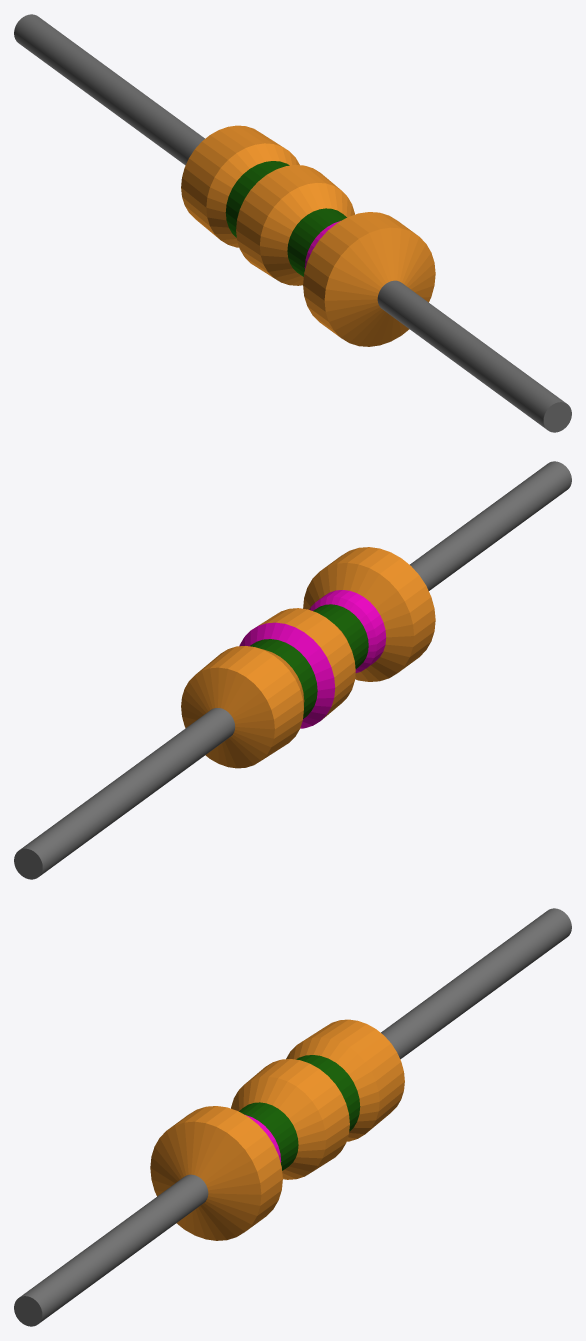
Rendered from resistor.glb.
The picture shows the model from 3 angles, top to bottom: view 1: azimuth 30°, elevation 25°; view 2: azimuth 150°, elevation 25°; view 3: azimuth 330°, elevation 25°; orthographic projection.
Visible parts, largest first — view 1: Cylinder_0; view 2: Cylinder_0; view 3: Cylinder_0.
Part boxes in pixels (left/top/right/bottom): Cylinder_0: left=14, top=14, right=571, bottom=432; Cylinder_0: left=14, top=461, right=571, bottom=879; Cylinder_0: left=14, top=908, right=571, bottom=1326.
Bounding box in the file's own units: 3.14 × 3.14 × 25.9.
